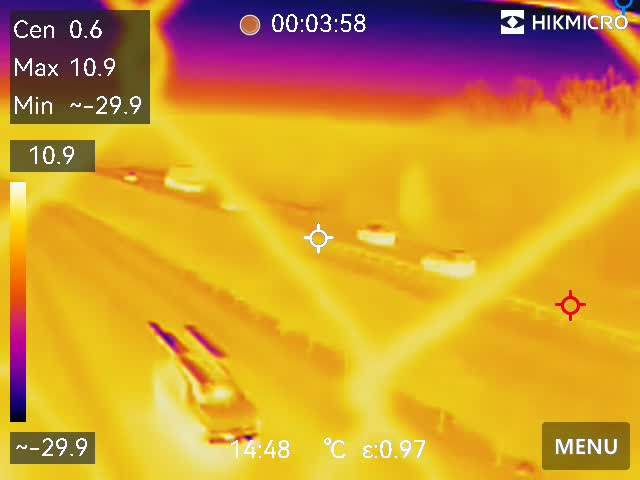heavyTruck: (163, 159, 224, 194)
lightTruck: (146, 317, 262, 454)
